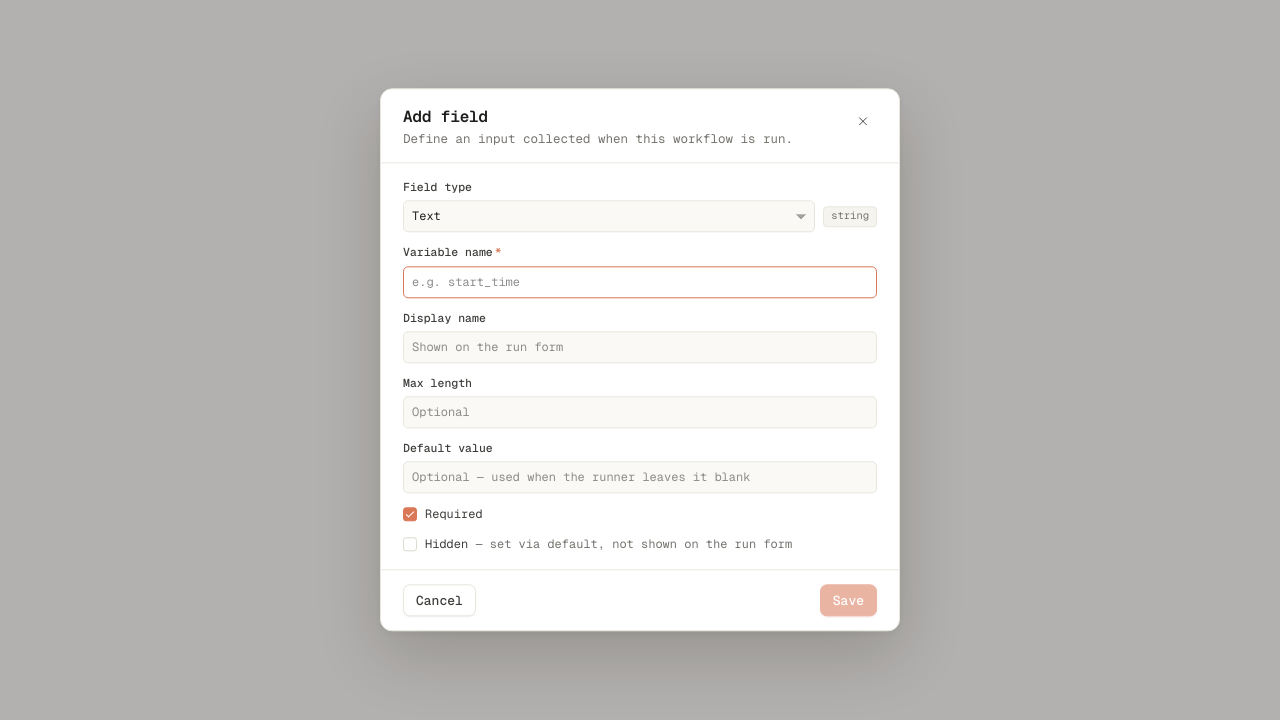
Test: AddInputFieldModal — a Select requires an option › blocks Save (with a hint) for a Select with no options, and enables it once one is added
Type "choice" into the field with placeholder "e.g. start_time" at (640,282), box [403, 266, 877, 298]
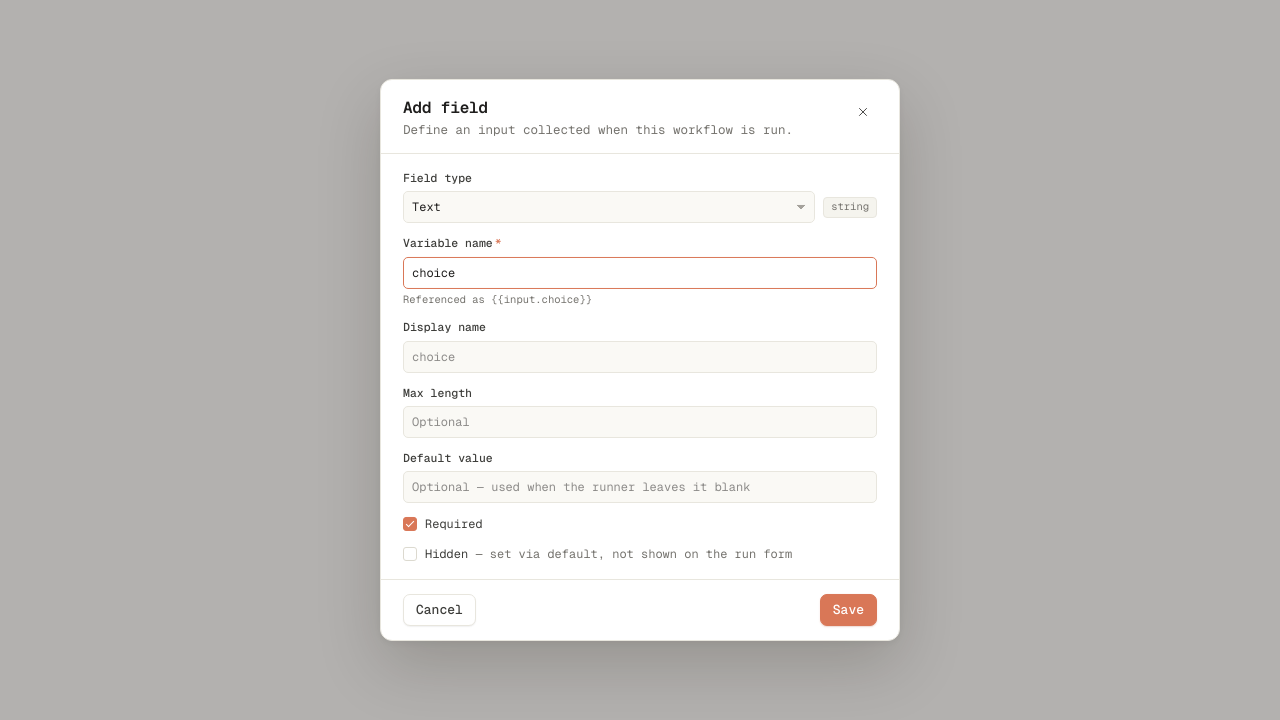
Select "Select" in the dropdown at (609,207), box [403, 191, 815, 223]
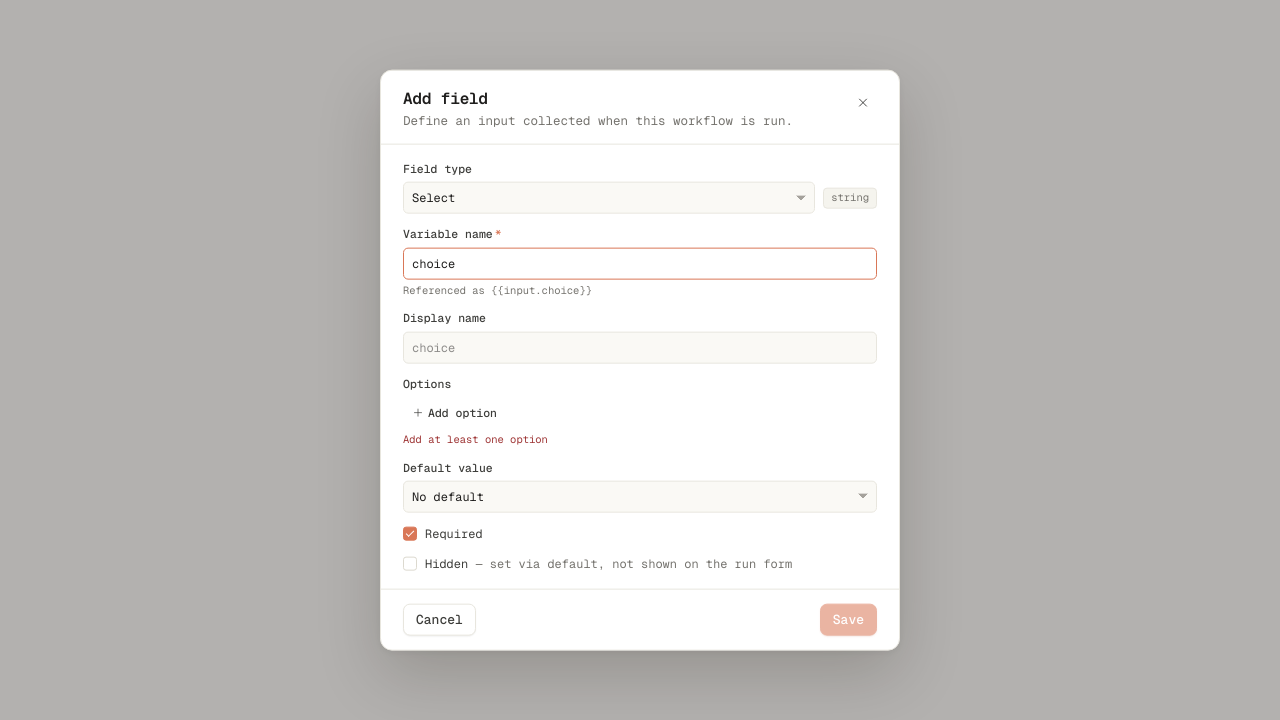
Expected: the text "Add at least one option" is shown, [403, 432, 548, 446]
Expected: the button "Save" is disabled, [820, 603, 877, 635]
Note: Add and fill one option → the hint clears and Save enables.
Click the button "Add option" at (454,412), box [403, 396, 506, 428]
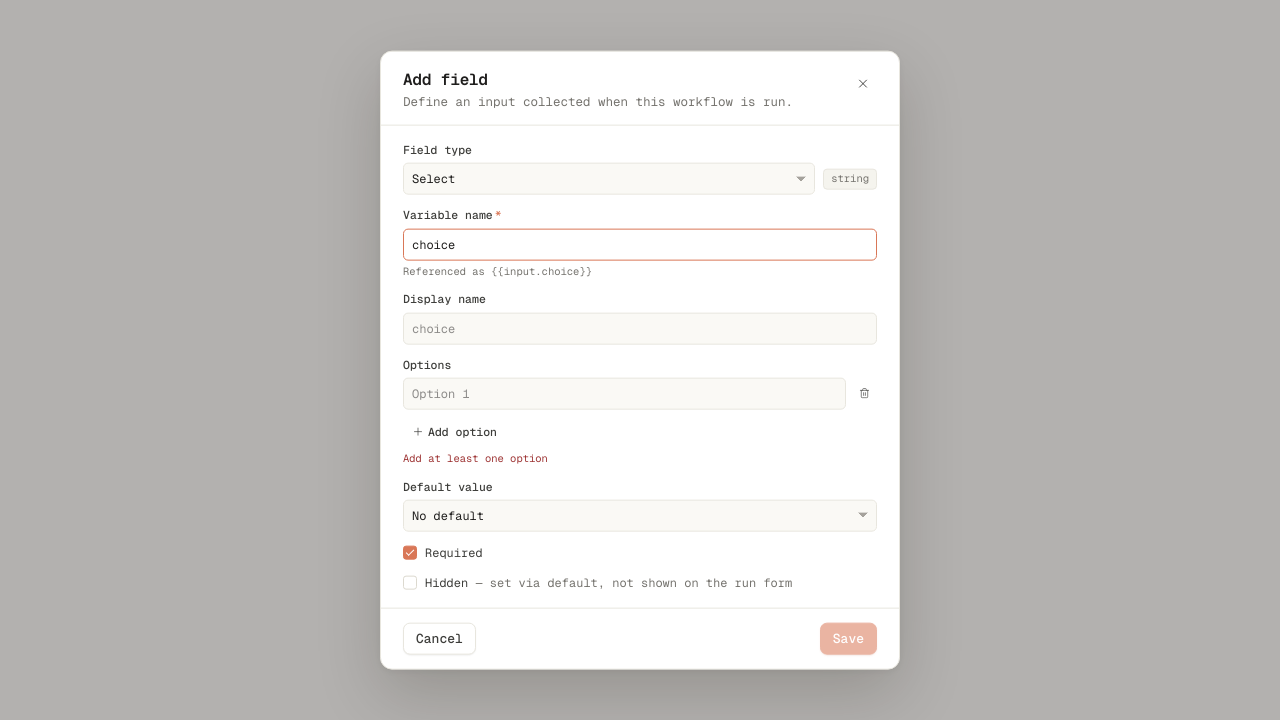
Type "Yes" into the field with placeholder "Option 1" at (624,393), box [403, 377, 846, 409]
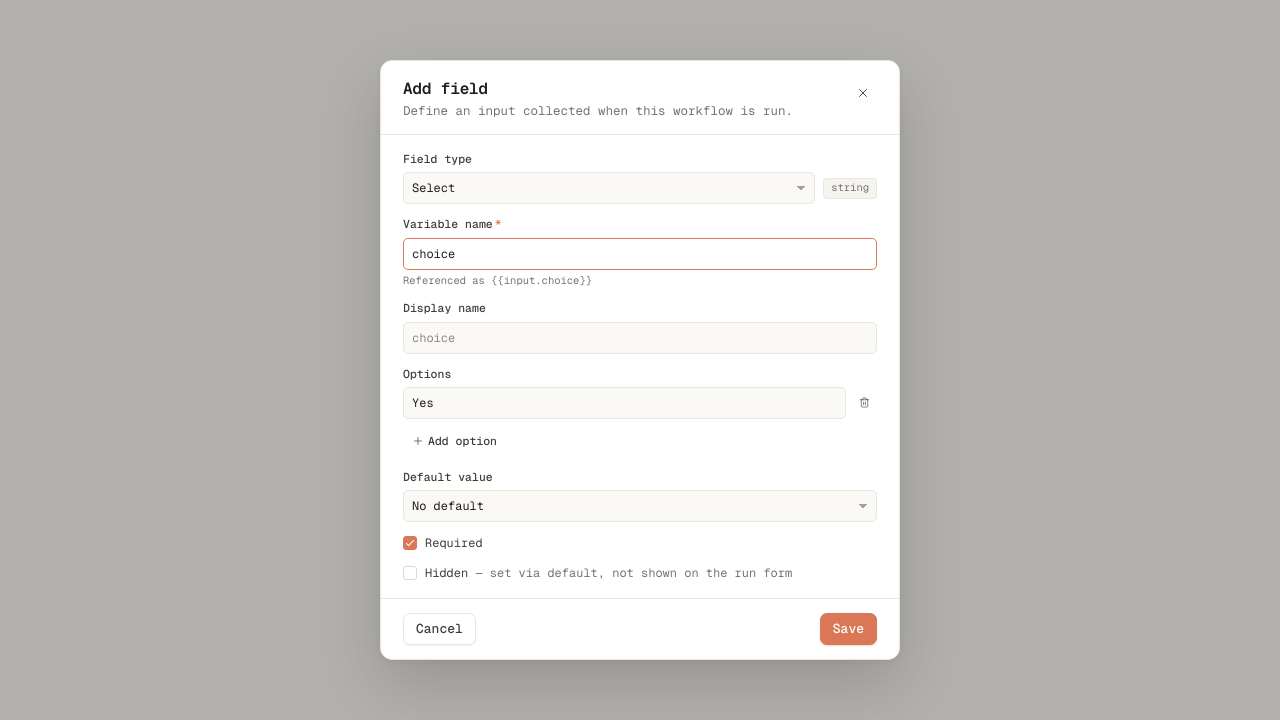
Expected: the text "Add at least one option" is gone
Expected: the button "Save" is enabled, [820, 613, 877, 645]
